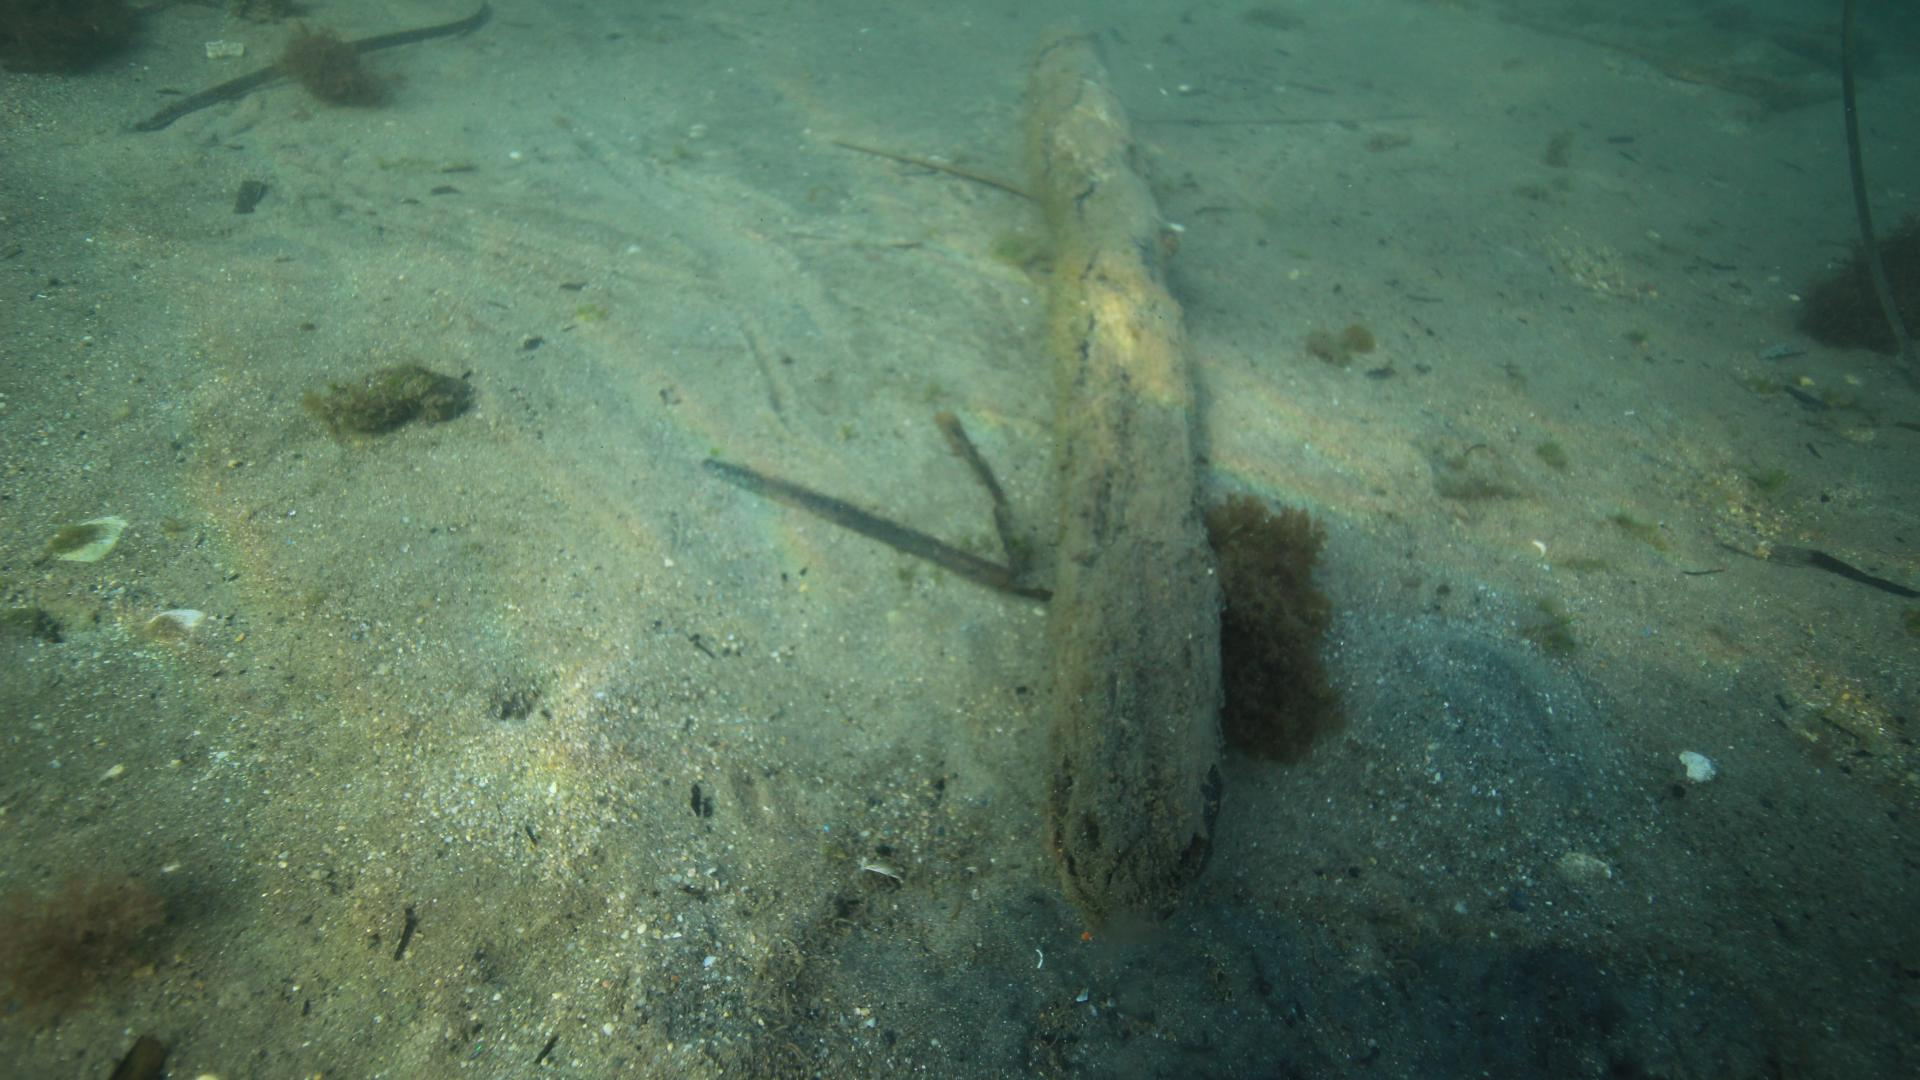wood: (1033, 22, 1226, 924)
